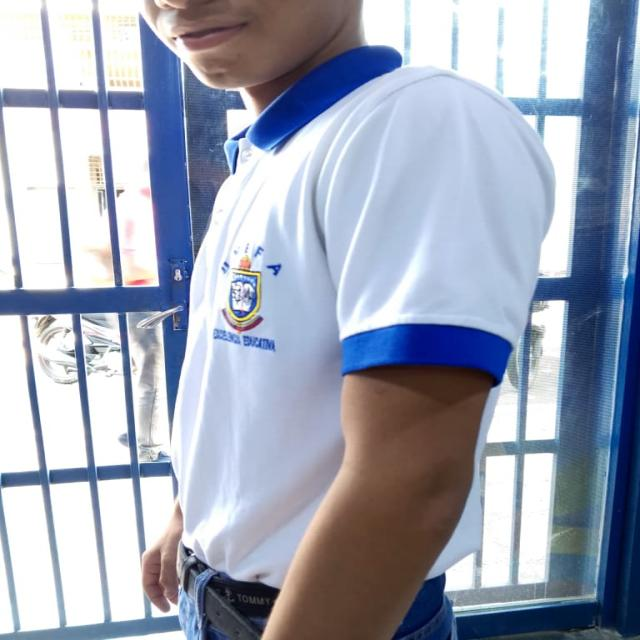uniforme_superior: (166, 43, 556, 593)
